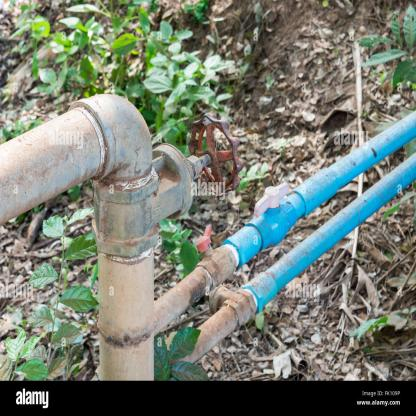PVC: (1, 95, 416, 381)
